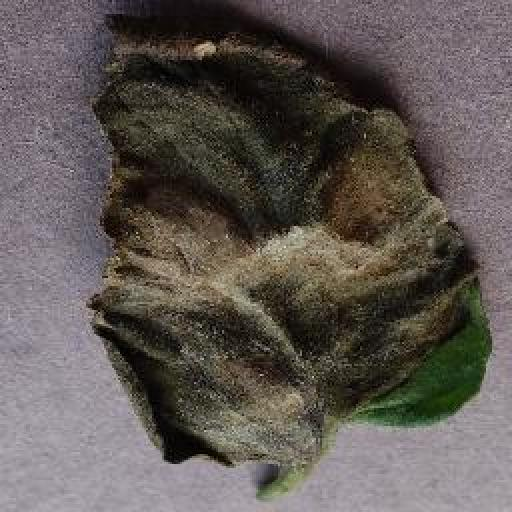disease_tomato: (85, 7, 492, 468)
